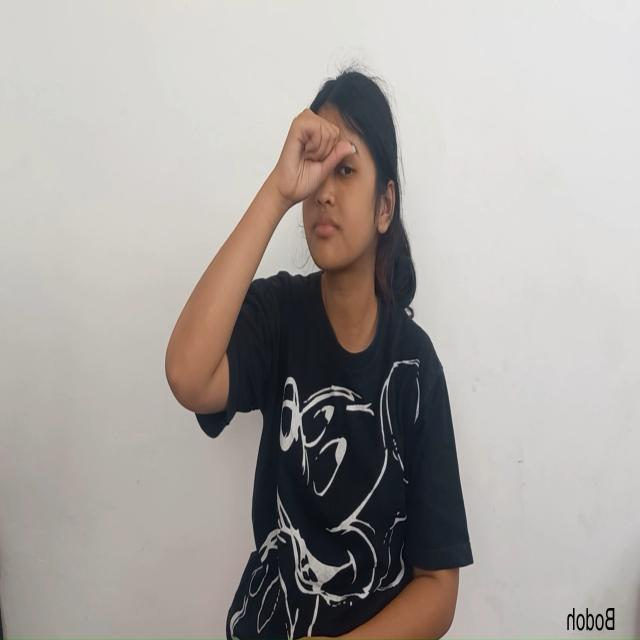Bodoh -BISINDO-: (232, 42, 424, 380)
